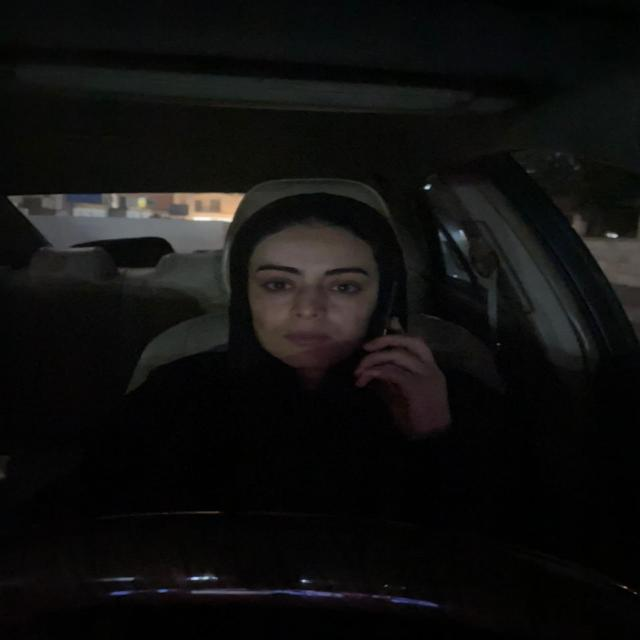mobile: (359, 292, 418, 413)
person: (244, 204, 382, 366)
